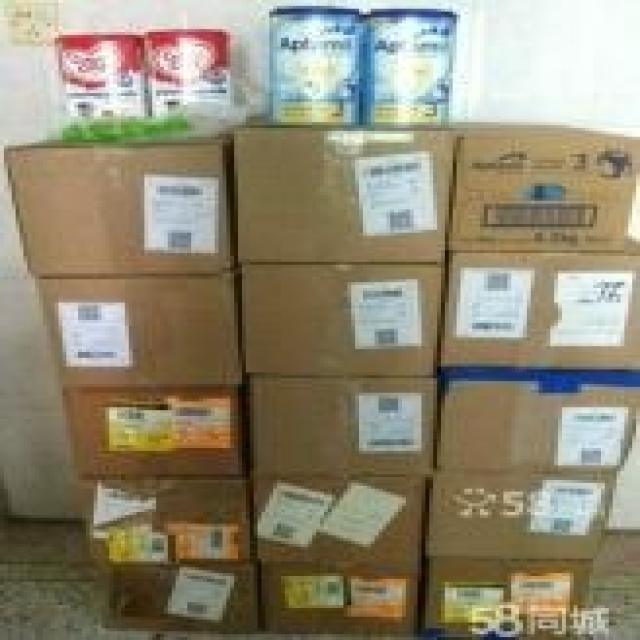box: (0, 133, 240, 281), (233, 124, 456, 266), (442, 235, 636, 376), (447, 121, 636, 252), (31, 273, 242, 389), (241, 264, 444, 378), (249, 375, 439, 477), (437, 375, 636, 470), (63, 385, 247, 477), (426, 472, 616, 557), (250, 478, 429, 564), (76, 479, 255, 564), (423, 559, 591, 637), (261, 564, 420, 633), (97, 565, 258, 631)
